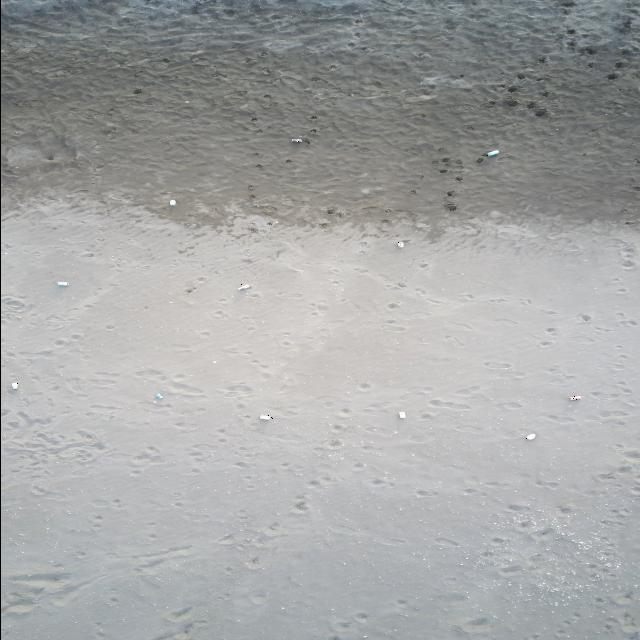Garbage: (485, 148, 499, 156), (260, 413, 272, 420), (524, 432, 535, 439), (569, 393, 580, 400), (56, 280, 68, 286), (238, 283, 249, 289), (155, 392, 163, 400), (396, 240, 404, 247), (397, 411, 404, 419), (168, 199, 176, 206), (292, 138, 303, 143), (11, 381, 18, 387)
